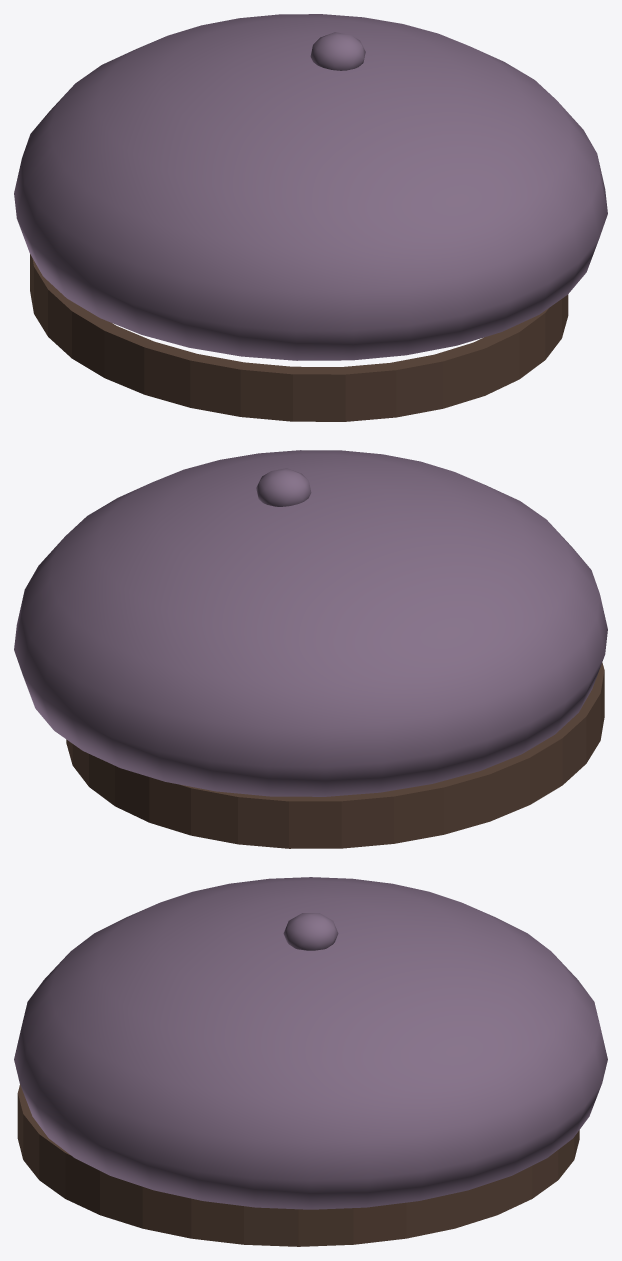
Rendered from cap_merchant_plum.glb.
3 renders of one model, top to bottom at view 1: azimuth 30°, elevation 25°; view 2: azimuth 150°, elevation 25°; view 3: azimuth 270°, elevation 25°, orthographic. The views are drawn at different scales.
Visible parts, largest first — view 1: cap_merchant_plum; view 2: cap_merchant_plum; view 3: cap_merchant_plum.
Part boxes in pixels (x1,y1,x2,y2): cap_merchant_plum: (14, 14, 607, 421); cap_merchant_plum: (14, 450, 607, 848); cap_merchant_plum: (14, 877, 607, 1246).
Size of the model in its own units: 0.5637 by 0.266 by 0.5837.
